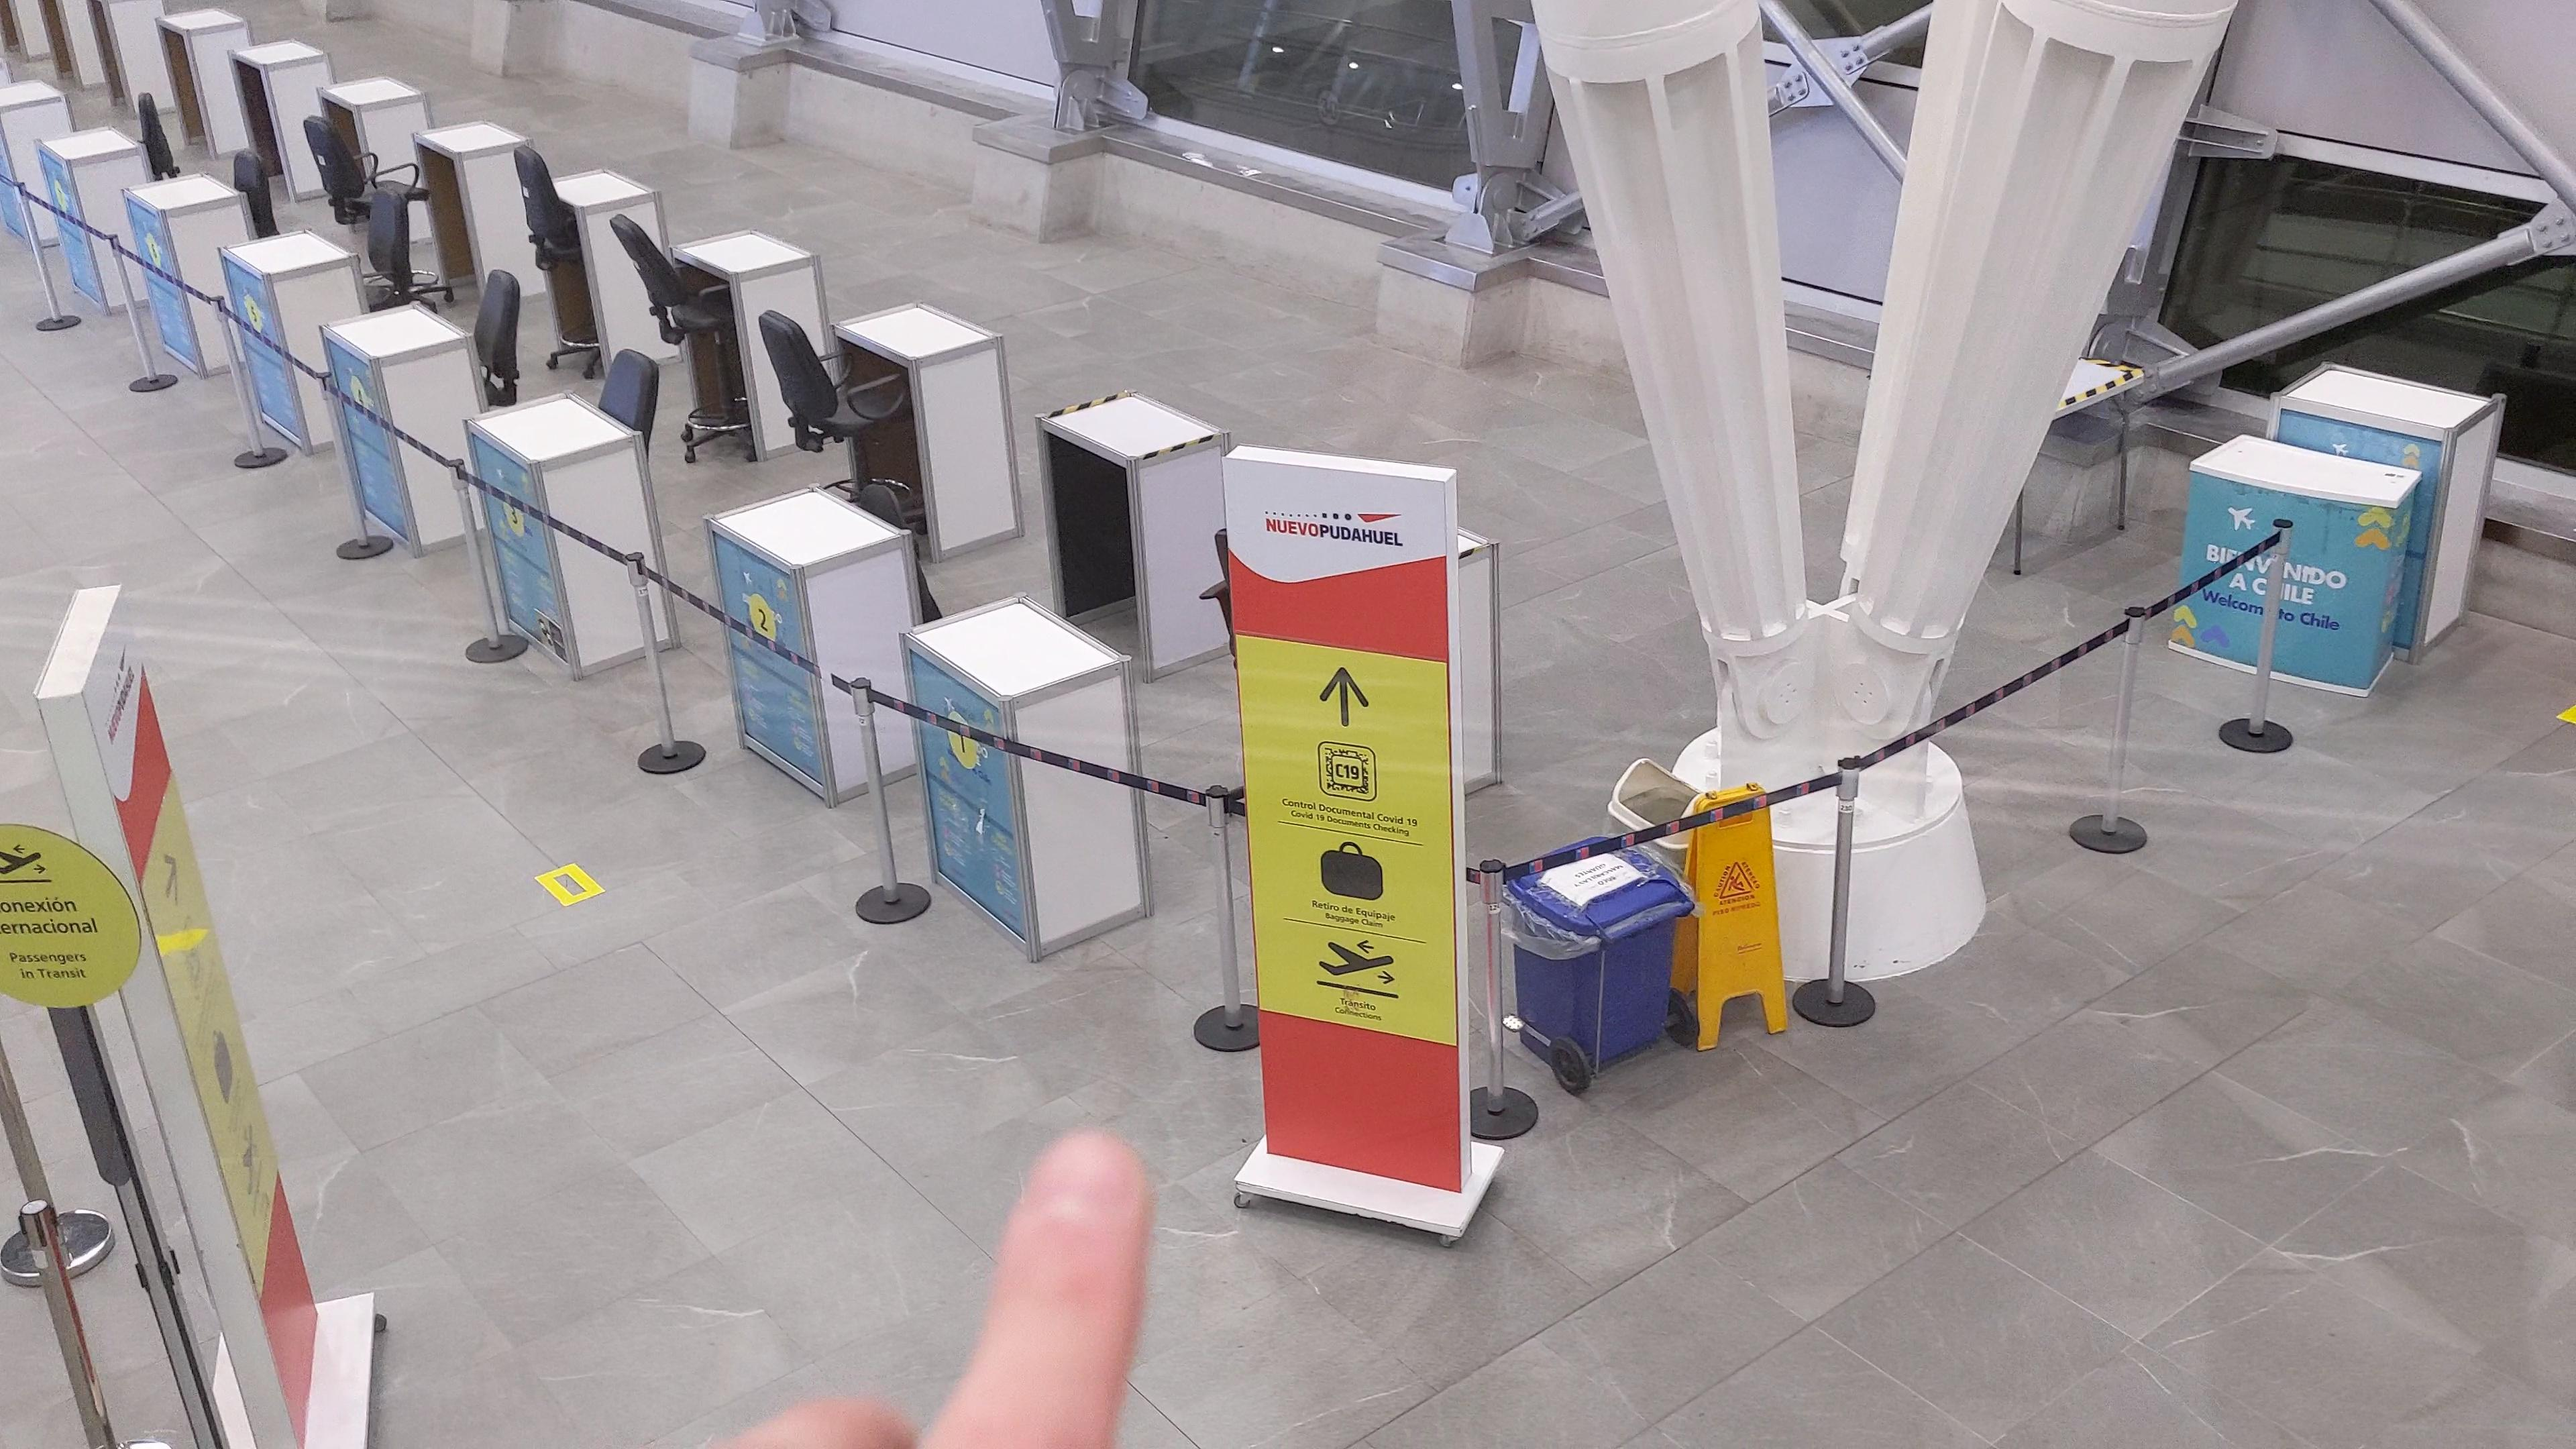airplane symbol: (1318, 938, 1399, 982), (0, 844, 44, 876)
baggage claim: (1318, 840, 1387, 902)
thin up arrow: (1318, 667, 1371, 729)
